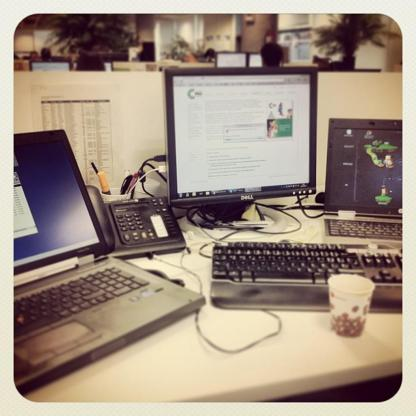board: (10, 128, 203, 395), (322, 119, 404, 250)
